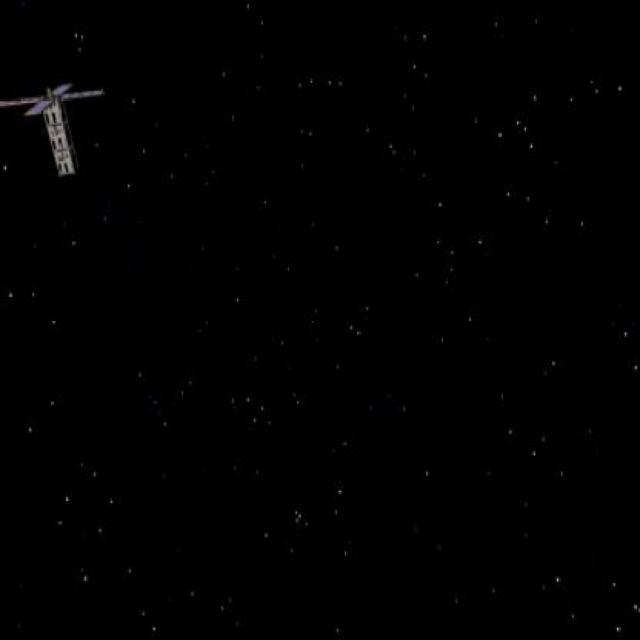satellite: (0, 75, 117, 177)
